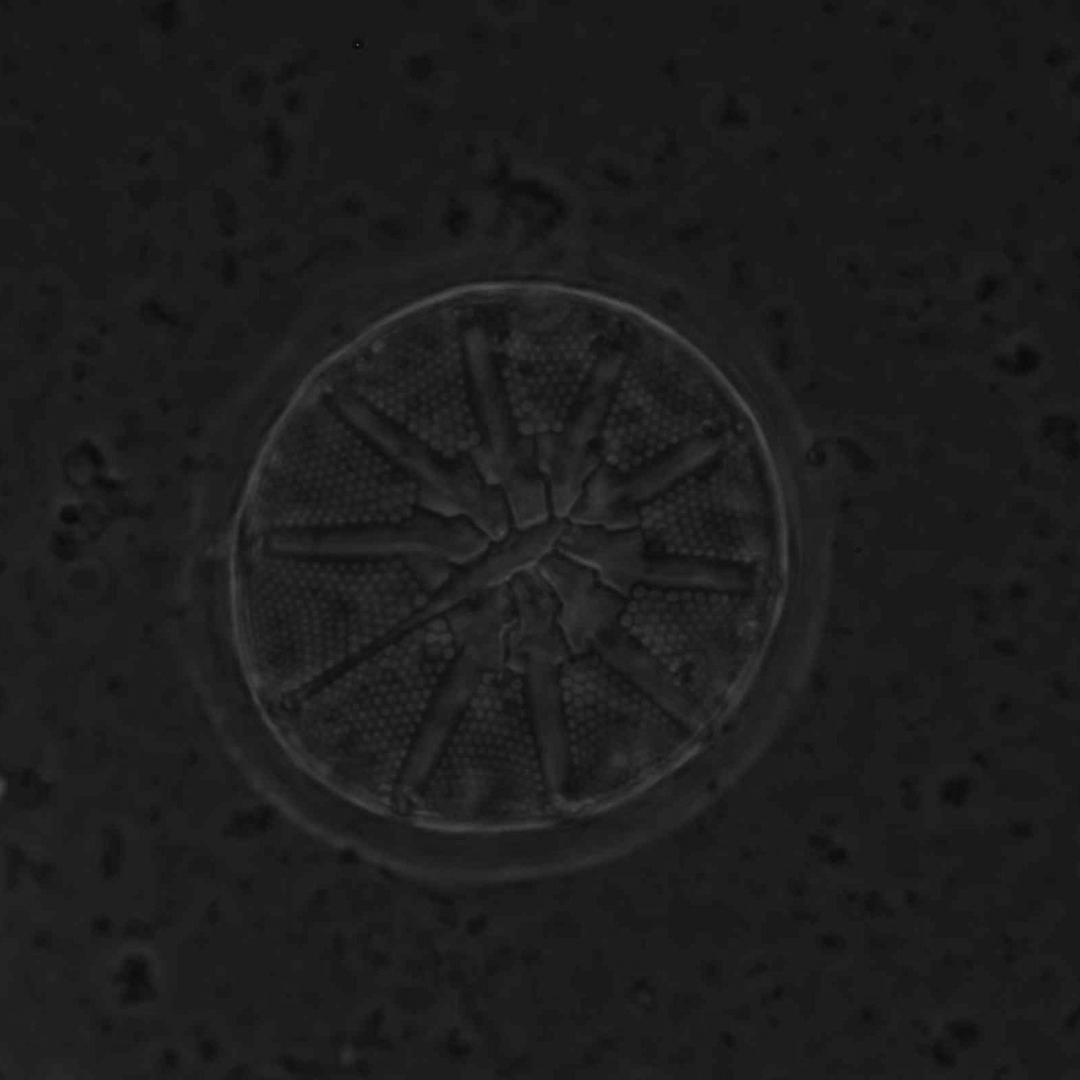asteromphalus_hyalinus: (230, 284, 775, 824)
